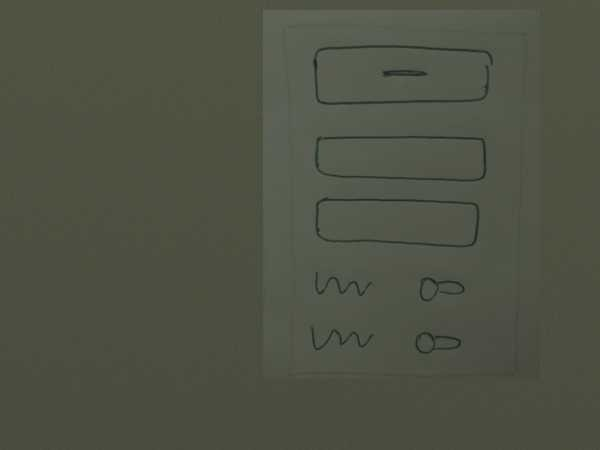button: (309, 42, 497, 109)
switch: (415, 269, 468, 308), (412, 322, 465, 361)
text: (307, 318, 376, 356), (309, 267, 377, 305)
text_input: (312, 130, 490, 189), (309, 194, 487, 252)
